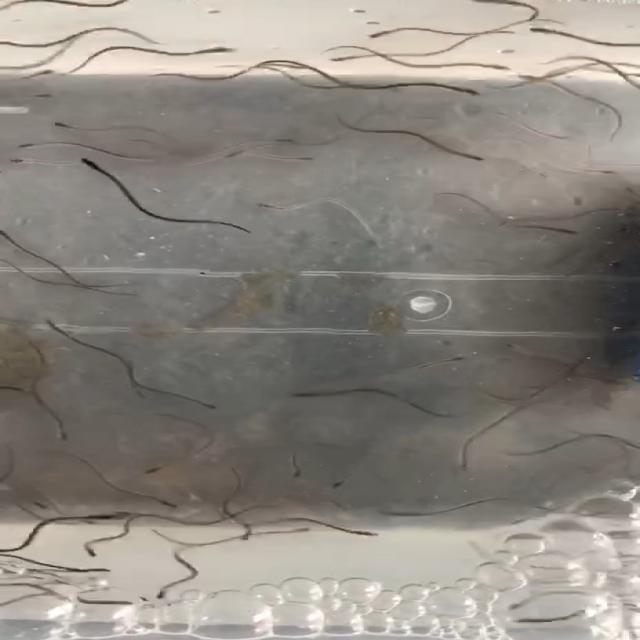active_glass_eel: (11, 80, 73, 108), (243, 124, 303, 146), (30, 310, 73, 337), (423, 77, 482, 96), (126, 460, 174, 483), (142, 492, 189, 515), (343, 522, 384, 548), (321, 470, 360, 497), (17, 58, 69, 78), (414, 351, 470, 369), (192, 388, 226, 417), (453, 143, 491, 167), (282, 152, 325, 173), (11, 136, 56, 156), (6, 156, 46, 178), (365, 504, 395, 533), (244, 198, 287, 218), (46, 118, 91, 137), (14, 492, 61, 510), (188, 38, 232, 57), (276, 463, 310, 487), (0, 226, 30, 253), (226, 528, 266, 548), (518, 22, 567, 38), (81, 510, 133, 525), (48, 423, 80, 447), (472, 57, 512, 76), (505, 338, 539, 360), (65, 155, 103, 174), (153, 584, 185, 606), (282, 521, 315, 541), (82, 541, 109, 564), (277, 387, 320, 401), (318, 53, 358, 68), (352, 30, 403, 40), (518, 66, 536, 88), (600, 200, 622, 217), (554, 225, 582, 236)
